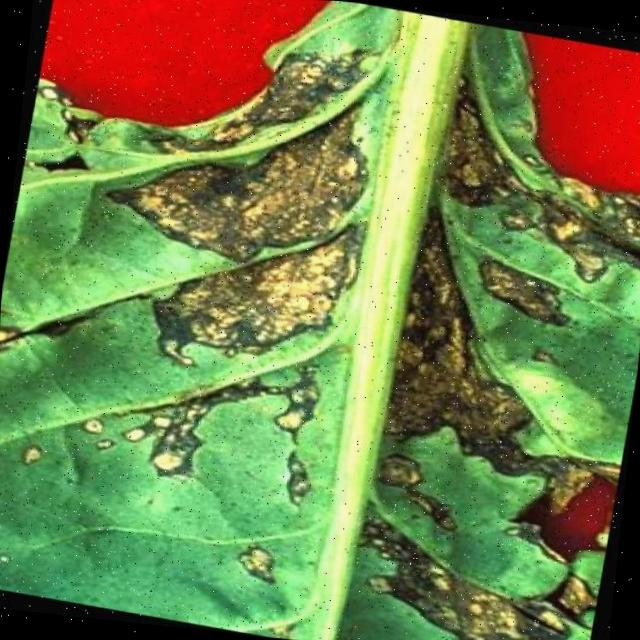Bacterial: (113, 131, 574, 448)
